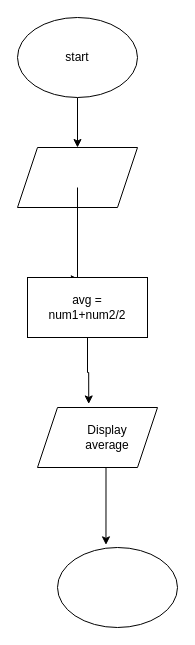
Some shapes in this 195 by 645 pixel diagram are drawn without their labels. Here are the shapes that lost their labels. From the top down, the box of each, then its label:
(16, 146, 138, 208): input: num1 num2
(56, 546, 178, 628): end
